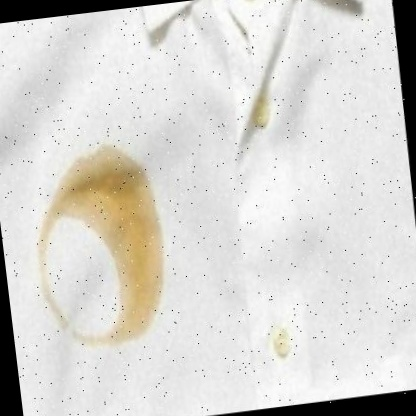coffee: (98, 222, 175, 333), (62, 153, 156, 230)
